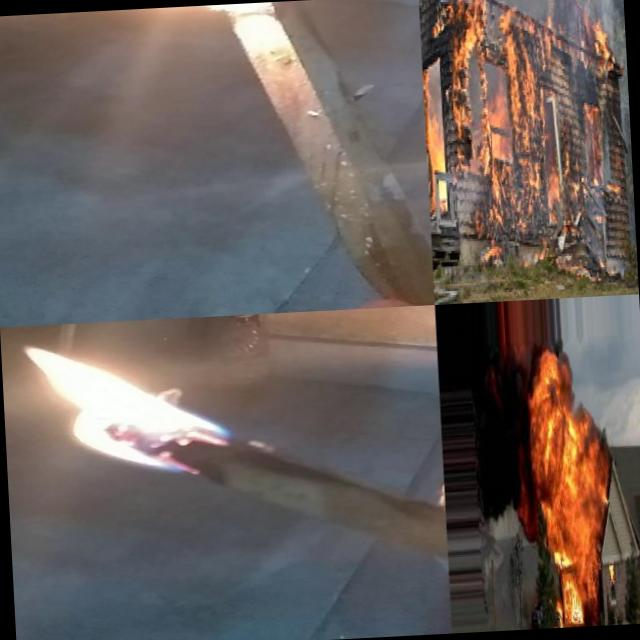fire: (0, 318, 298, 492), (549, 353, 616, 624), (116, 1, 304, 56), (532, 355, 560, 561), (482, 110, 512, 227), (422, 64, 447, 204), (510, 157, 546, 235), (519, 48, 546, 146), (452, 1, 487, 66), (504, 20, 523, 134), (584, 106, 606, 187), (594, 15, 618, 75), (562, 158, 587, 199), (546, 170, 562, 222), (538, 15, 554, 67)
smoke: (474, 356, 542, 555), (582, 0, 623, 18)
